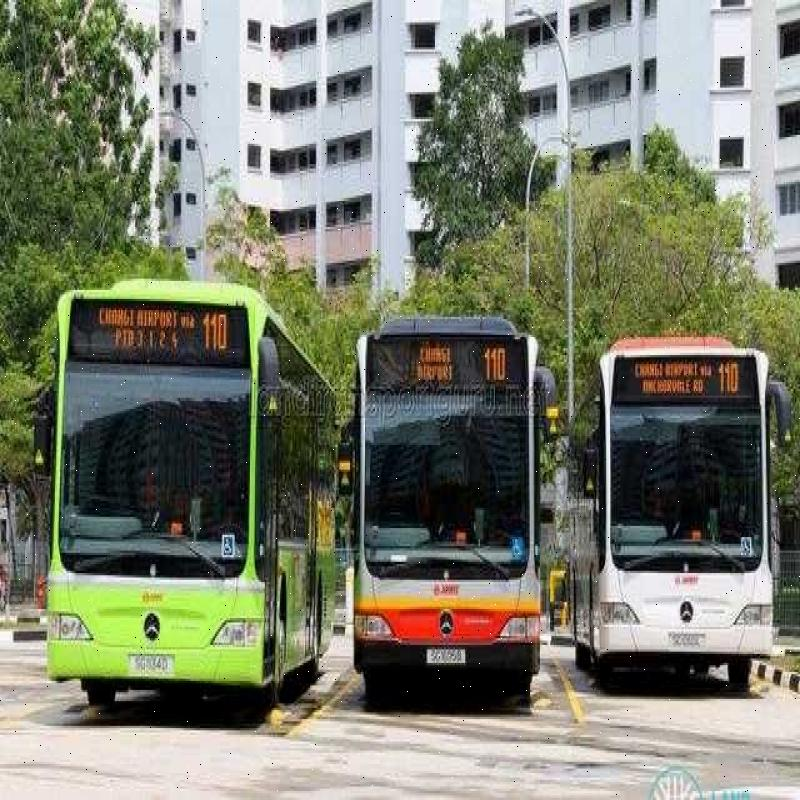bus: (34, 228, 329, 761), (344, 280, 553, 700)
